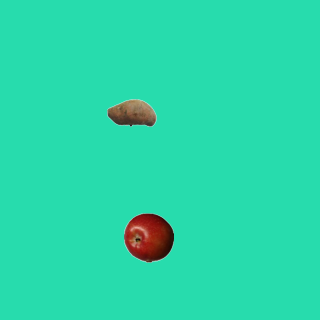Apple Braeburn: (123, 212, 173, 262)
Potato Sweet: (106, 87, 156, 137)
